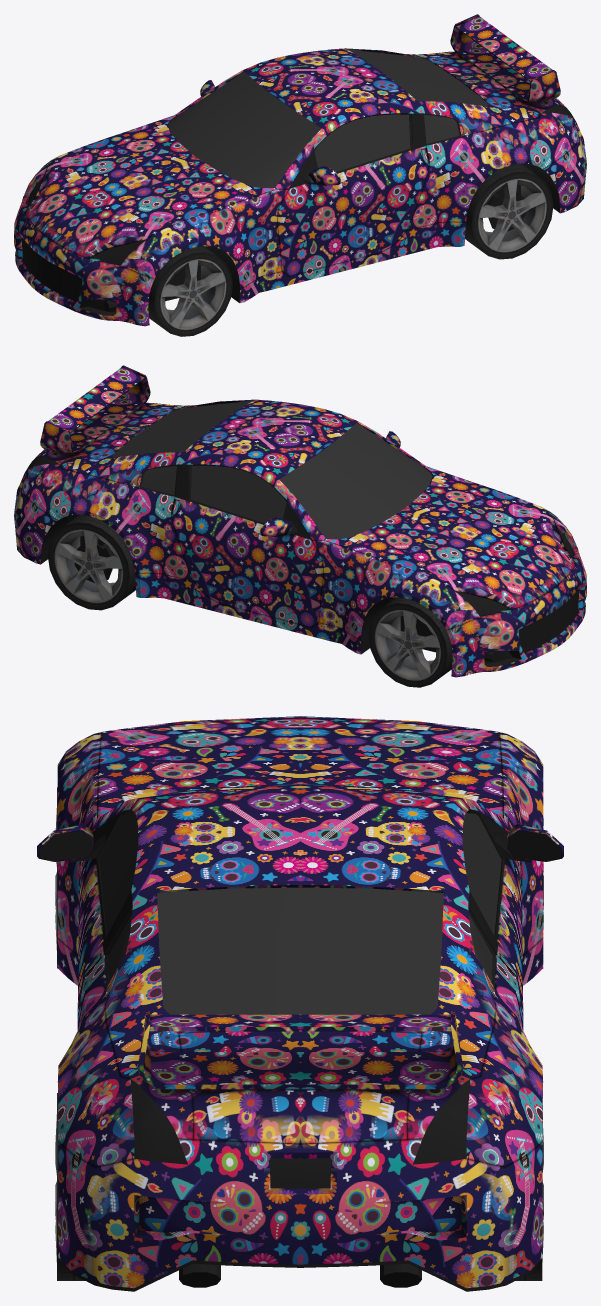
File: car_14.fbx
The picture shows the model from 3 angles, top to bottom: view 1: azimuth 30°, elevation 25°; view 2: azimuth 150°, elevation 25°; view 3: azimuth 270°, elevation 25°; orthographic projection. The views are drawn at different scales.
Visible parts, largest first — view 1: car_14; view 2: car_14; view 3: car_14.
Part boxes in pixels (box(x1,y1,x2,y2)): car_14: box(14, 14, 586, 336); car_14: box(14, 365, 586, 687); car_14: box(37, 716, 563, 1291).
Size of the model in its own units: 66 by 20.34 by 29.26.
